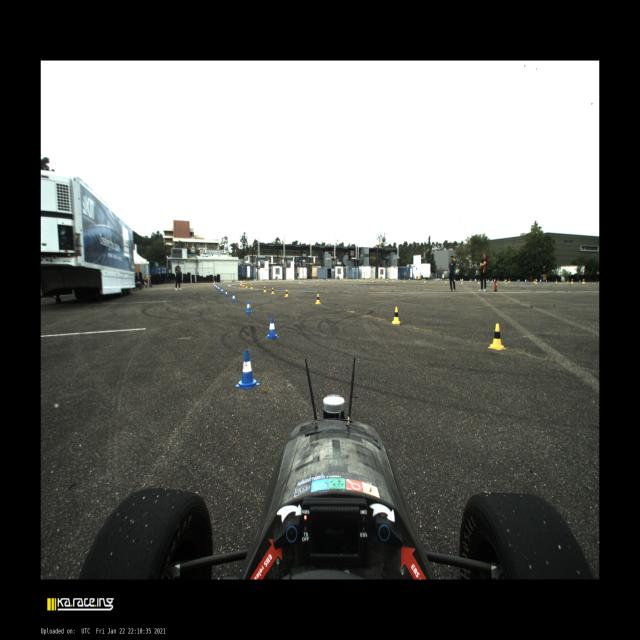blue_cone: (236, 350, 260, 389), (266, 317, 279, 339), (245, 301, 252, 313), (231, 294, 236, 302), (225, 290, 228, 297), (221, 288, 224, 294), (215, 284, 218, 289), (524, 279, 527, 283), (218, 286, 220, 291), (518, 278, 520, 283), (475, 278, 477, 283), (540, 280, 542, 284), (422, 278, 424, 282), (308, 278, 310, 281), (340, 278, 342, 281), (497, 279, 499, 282), (579, 280, 581, 283), (231, 280, 232, 284), (409, 278, 410, 282), (437, 278, 438, 282), (488, 279, 489, 283), (516, 280, 518, 282), (546, 279, 547, 283), (460, 278, 461, 282), (223, 281, 224, 284), (326, 278, 327, 281), (357, 278, 358, 281), (371, 278, 372, 281), (396, 278, 397, 281), (494, 279, 495, 282), (441, 279, 442, 281), (448, 278, 449, 280)
large_orange_cone: (214, 281, 215, 287), (241, 280, 242, 286)
yellow_cone: (488, 323, 506, 350), (392, 307, 400, 324), (316, 294, 320, 304), (284, 289, 288, 297), (570, 279, 574, 284), (271, 288, 274, 294), (263, 286, 266, 292), (250, 284, 253, 289), (245, 283, 248, 288), (242, 283, 245, 287), (582, 279, 585, 283), (478, 279, 480, 284), (535, 279, 537, 284), (556, 279, 558, 283), (508, 278, 510, 282), (469, 278, 471, 282), (445, 280, 447, 284), (260, 279, 262, 283), (304, 278, 306, 282), (317, 278, 319, 282), (345, 278, 347, 282), (505, 280, 507, 284), (567, 279, 569, 283), (424, 279, 426, 282), (403, 279, 405, 282), (461, 280, 463, 283), (386, 279, 388, 282), (249, 280, 251, 283), (491, 279, 493, 282), (372, 278, 373, 282), (360, 278, 361, 282), (329, 278, 330, 281), (291, 279, 292, 282), (486, 279, 487, 282), (278, 280, 278, 282)
